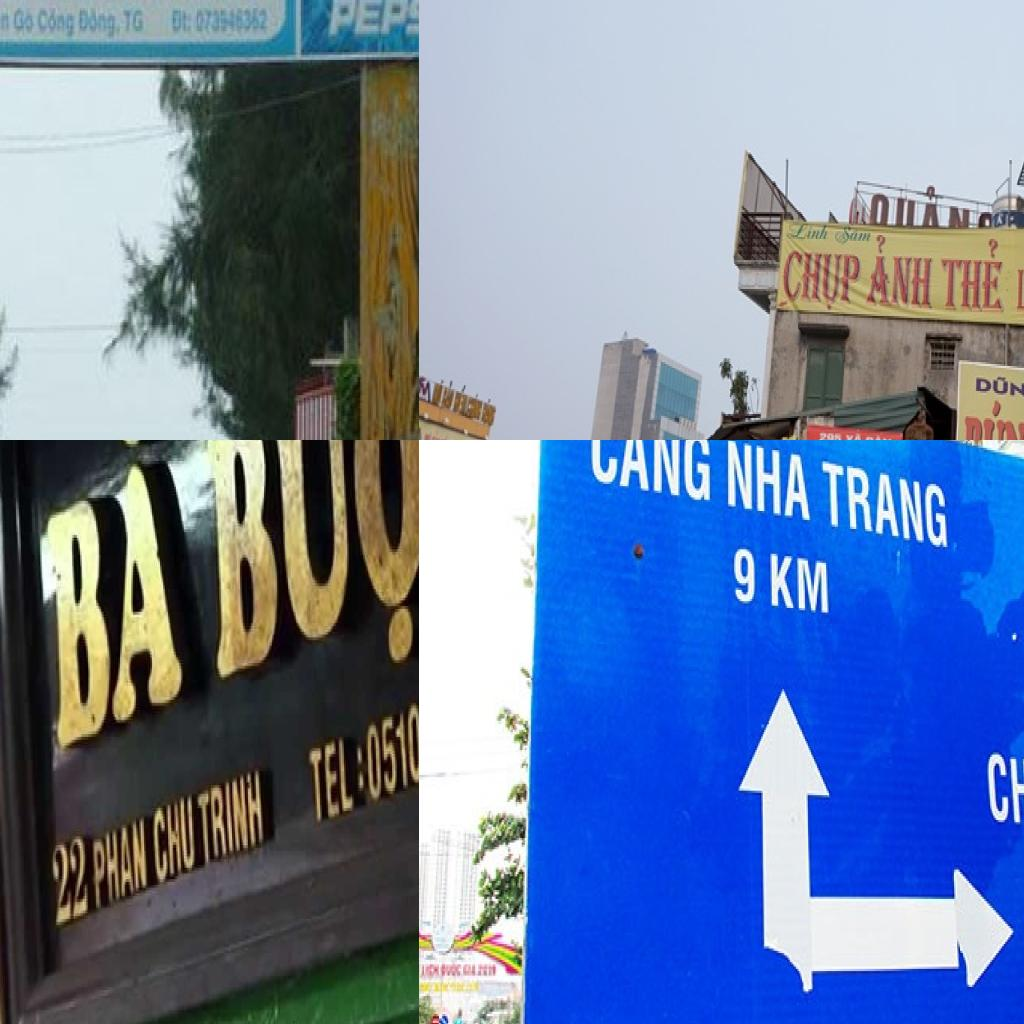text: (186, 440, 419, 738), (33, 440, 192, 765), (817, 450, 952, 558), (586, 440, 716, 511), (720, 440, 818, 533), (195, 757, 271, 876), (728, 540, 835, 622), (303, 724, 368, 831), (92, 811, 150, 919), (938, 235, 1009, 322), (864, 231, 938, 314), (778, 247, 864, 316), (44, 825, 93, 938), (150, 790, 198, 890), (984, 743, 1024, 844), (196, 0, 270, 39), (958, 397, 1024, 440), (973, 369, 1024, 406), (77, 2, 123, 42), (35, 2, 75, 42), (784, 218, 832, 246), (829, 222, 877, 248), (168, 3, 194, 44), (13, 2, 37, 42), (122, 5, 146, 39), (1013, 252, 1024, 319), (0, 2, 14, 44), (439, 960, 463, 980), (419, 962, 442, 980), (817, 429, 844, 440), (462, 962, 478, 980), (863, 431, 893, 440), (844, 431, 863, 440), (419, 959, 422, 980)
